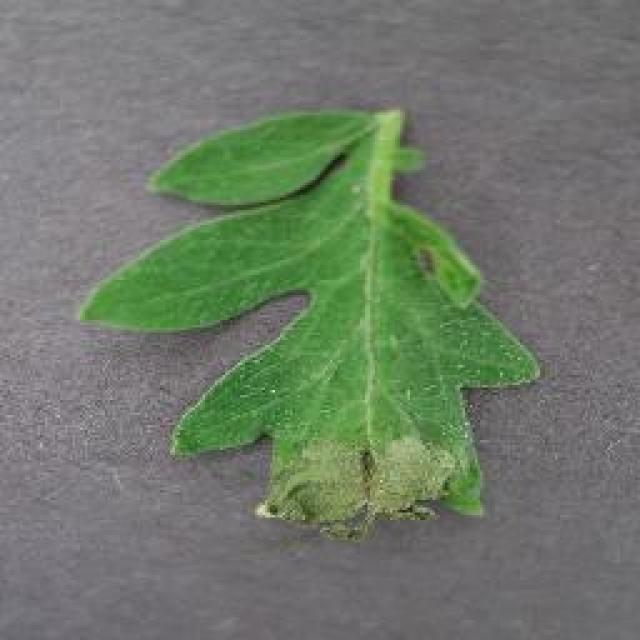Tomato___Late_blight: (75, 108, 542, 545)
